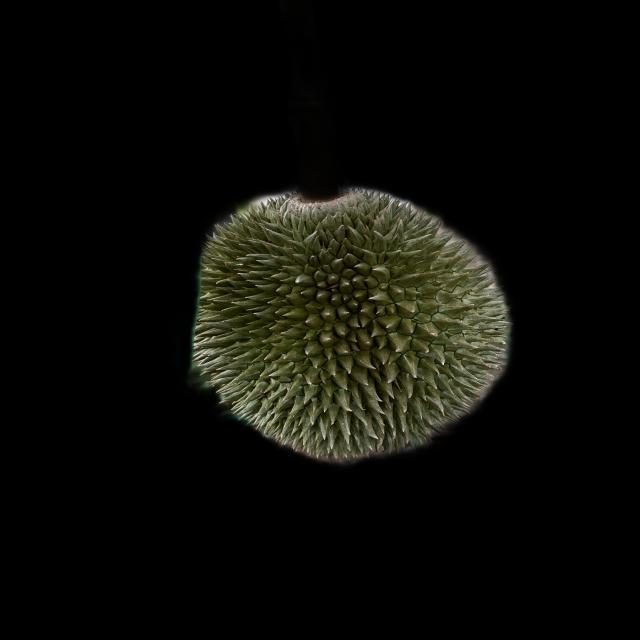immature: (192, 193, 518, 469)
